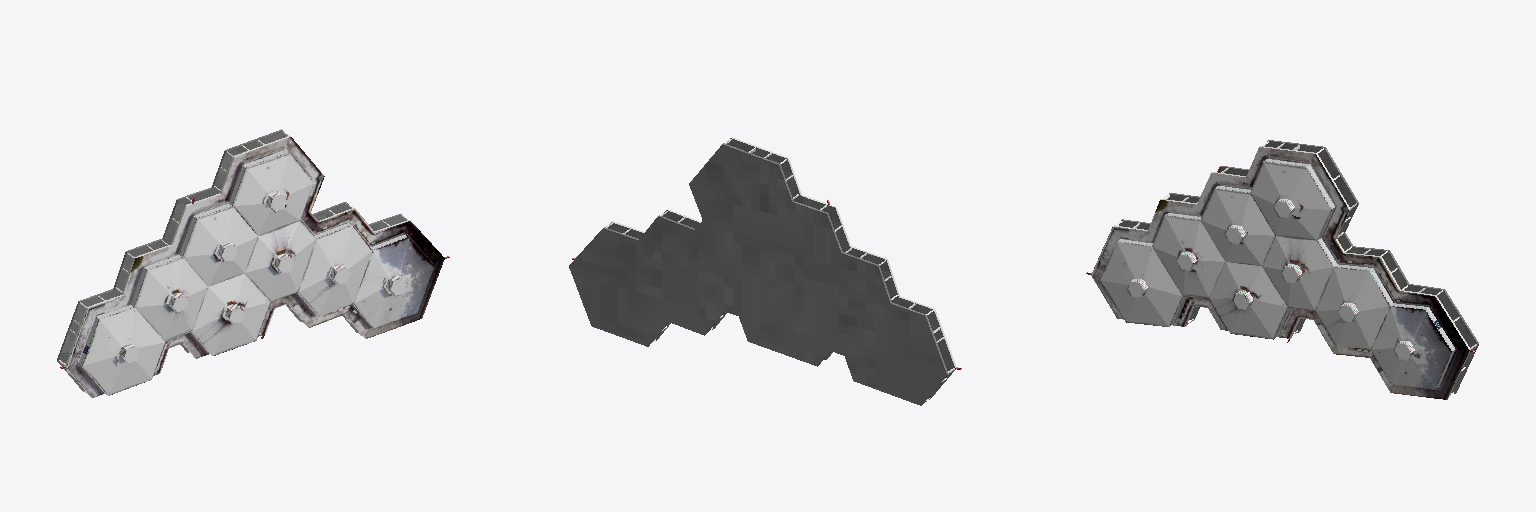
The picture shows the model from 3 angles: view 1: azimuth 30°, elevation 25°; view 2: azimuth 150°, elevation 25°; view 3: azimuth 330°, elevation 25°; orthographic projection.
Visible parts, largest first — view 1: polygon.857; view 2: polygon.857; view 3: polygon.857.
Part boxes in pixels (bbox=[...]): polygon.857: bbox=[57, 129, 449, 397]; polygon.857: bbox=[569, 137, 961, 405]; polygon.857: bbox=[1086, 140, 1478, 399].
Bounding box in the file's own units: 82.52 × 44.89 × 7.42.
Materials: 1 (1 with a texture image).